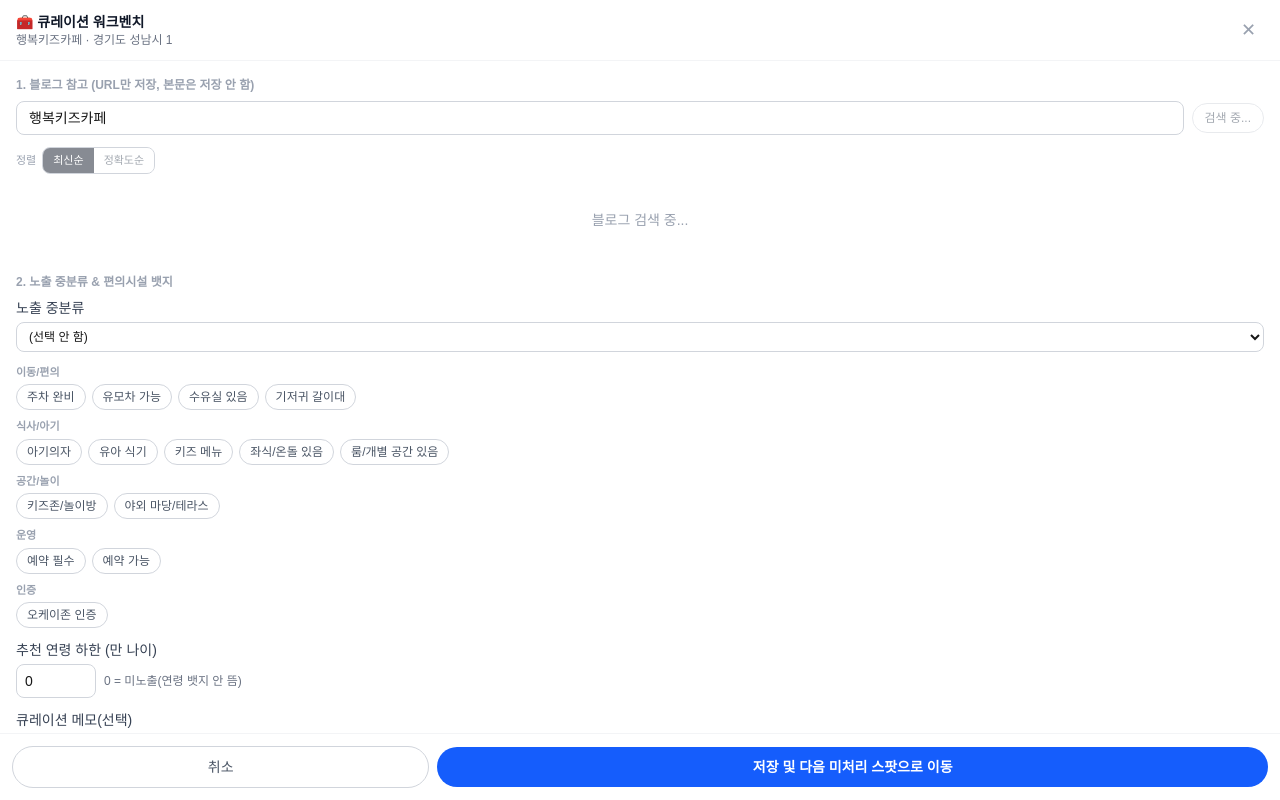
MobileCurationWorkbench › 큐의 나머지 스팟이 모두 처리됐으면 완료 메시지를 보여주고 종료를 알린다
Expected: the heading "2. 노출 중분류 & 편의시설 뱃지" is shown, 16,274 -> 173,288
Click the button "저장 및 다음 미처리 스팟으로 이동" at (853,767), box 437,747 -> 1268,787
Wait 1000 ms
(page scrolled)
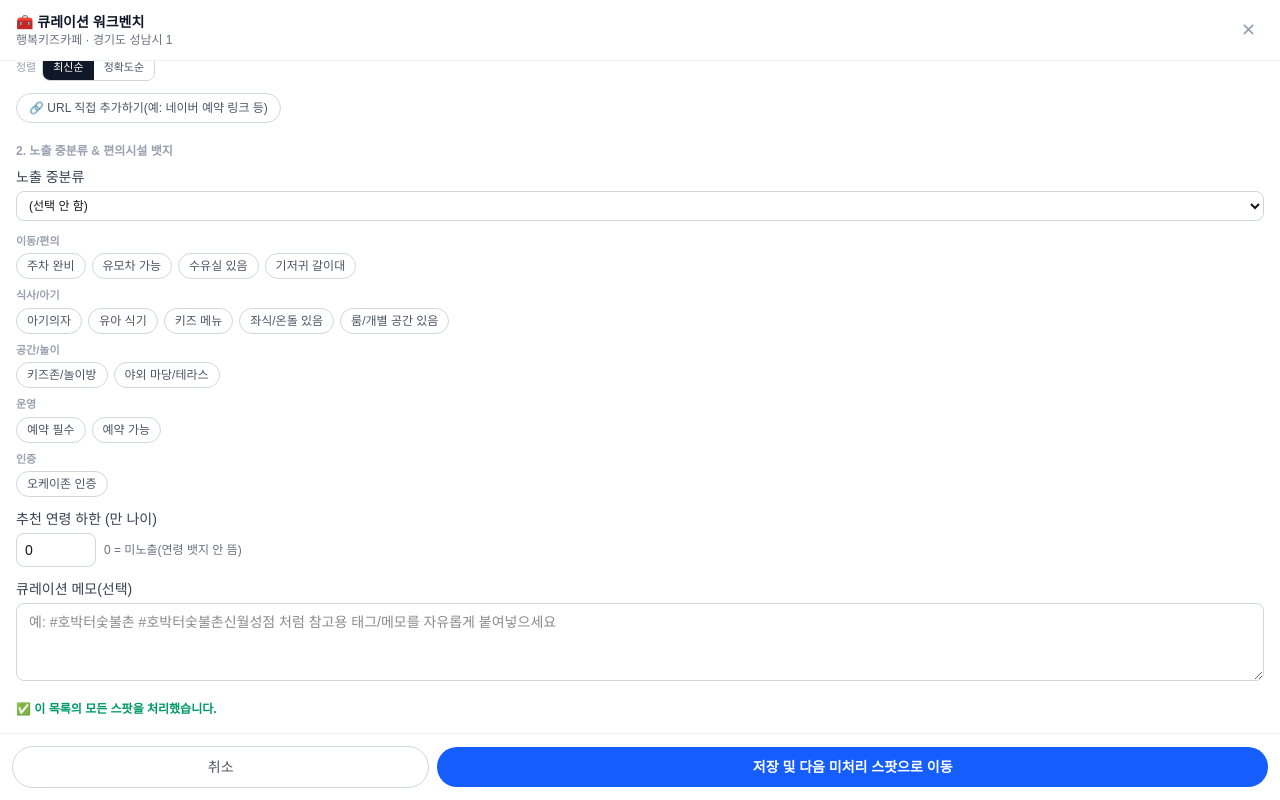
Now the text "✅ 이 목록의 모든 스팟을 처리했습니다." is shown, box 16,702 -> 217,716
